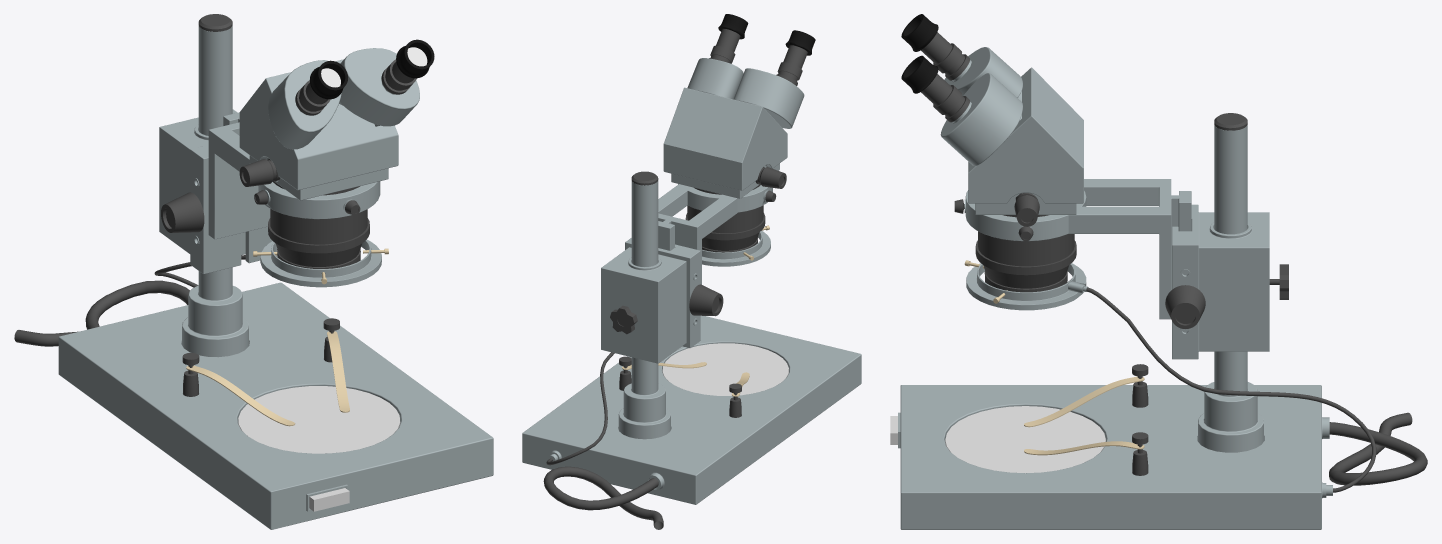
3 views of the same model, side by side, from view 1: azimuth 30°, elevation 25°; view 2: azimuth 150°, elevation 25°; view 3: azimuth 270°, elevation 25° (orthographic). The views are drawn at different scales.
Parts seen in each view (by area): view 1: Platform, Head, Circle, Tube, circle holder, customs, Box, Lenso, Lamp main, Cable main, Fixator planes, Lens.002 (+6 smaller); view 2: Platform, Head, Box, Tube, Circle, circle holder, customs, Cable main, Lenso, Lens, Lamp main, Lens.002 (+5 smaller); view 3: Platform, Box, Head, circle holder, Tube, Circle, customs, Lenso, Cable main, Lamp main, Lens, Cable lamps (+5 smaller).
Part boxes in pixels (x1,y1,x2,y2): Platform: [58, 282, 493, 529]; Head: [239, 59, 398, 200]; Circle: [238, 386, 400, 453]; Tube: [182, 25, 248, 357]; circle holder: [208, 112, 380, 239]; customs: [268, 48, 419, 149]; Box: [159, 109, 277, 274]; Lenso: [268, 181, 369, 273]; Lamp main: [260, 239, 381, 287]; Cable main: [14, 280, 189, 346]; Fixator planes: [186, 331, 349, 426]; Lens.002: [309, 39, 434, 99]; Platform: [522, 315, 861, 504]; Head: [663, 87, 787, 198]; Box: [601, 238, 700, 363]; Tube: [618, 180, 670, 439]; Circle: [662, 343, 788, 395]; circle holder: [658, 184, 772, 284]; customs: [687, 58, 804, 128]; Cable main: [543, 466, 663, 529]; Lenso: [685, 184, 765, 252]; Lens: [709, 29, 807, 85]; Lamp main: [702, 231, 770, 266]; Lens.002: [718, 14, 815, 55]; Platform: [898, 385, 1332, 529]; Box: [1172, 204, 1269, 359]; Head: [968, 67, 1083, 214]; circle holder: [964, 179, 1191, 319]; Tube: [1198, 125, 1263, 452]; Circle: [945, 406, 1105, 473]; customs: [940, 47, 1022, 166]; Lenso: [975, 215, 1076, 292]; Cable main: [1329, 412, 1427, 485]; Lamp main: [966, 263, 1088, 310]; Lens: [921, 32, 969, 122]; Cable lamps: [1086, 287, 1376, 492].
Size of the model in its own units: 122 by 232 by 255.
